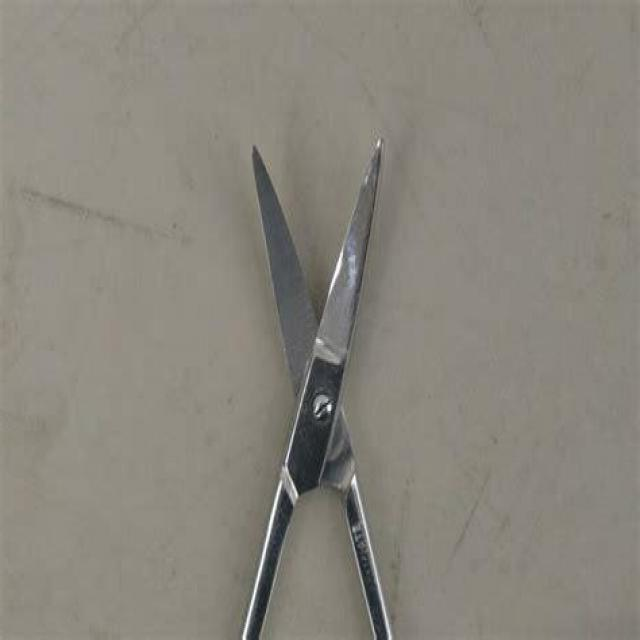Iris: (242, 138, 396, 636)
